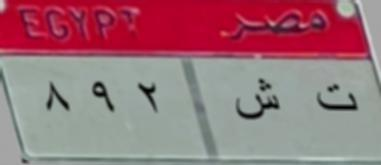2: (132, 78, 164, 122)
8: (38, 78, 74, 120)
9: (86, 76, 118, 114)
sheen: (231, 72, 284, 126)
taa: (313, 78, 361, 119)
